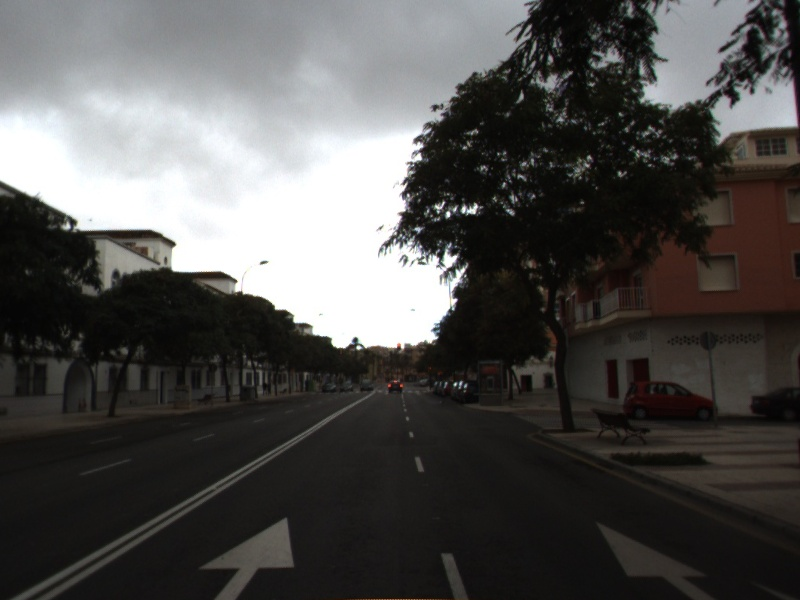STRAIGHT: (593, 519, 720, 600), (195, 515, 297, 600)
